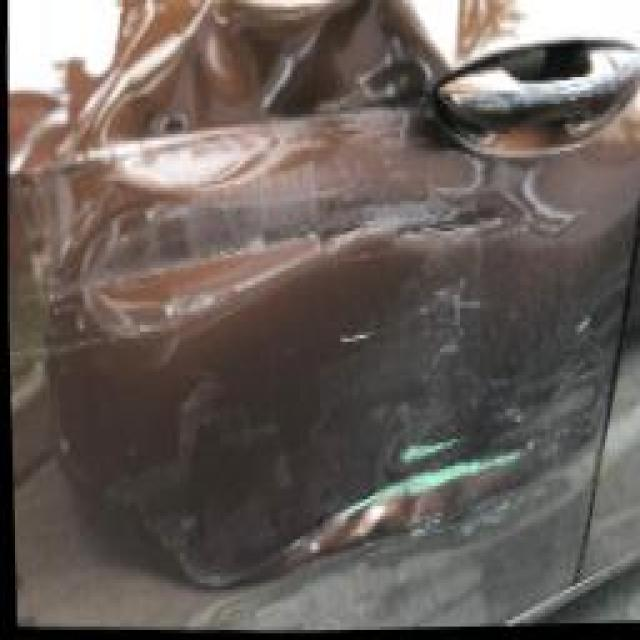Door: (19, 0, 640, 607)
